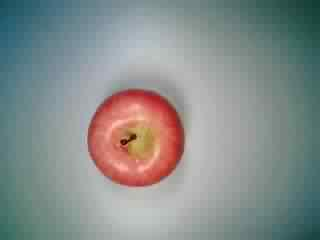apple: (83, 85, 187, 186)
